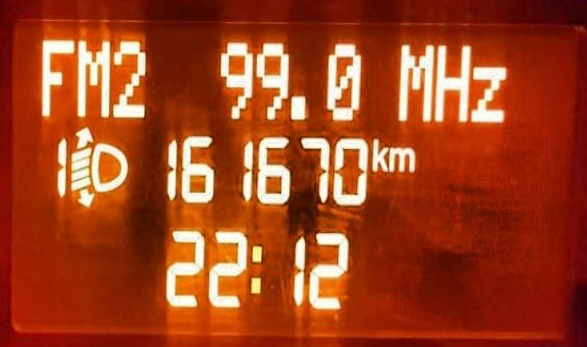-: (286, 85, 311, 119)
0: (324, 37, 364, 124), (331, 132, 367, 209)
1: (288, 230, 307, 317), (51, 130, 68, 210), (163, 130, 179, 209), (238, 132, 254, 209)
2: (308, 225, 351, 316), (164, 225, 206, 311), (206, 224, 244, 310), (113, 34, 150, 121)
6: (182, 130, 219, 207), (255, 131, 292, 206)
7: (300, 132, 332, 206)
9: (218, 31, 253, 119), (253, 32, 286, 121)
X: (395, 35, 432, 123), (433, 38, 469, 123), (37, 32, 72, 119), (77, 34, 110, 120), (470, 61, 509, 126), (246, 235, 265, 300), (387, 142, 415, 176), (370, 132, 386, 177)
